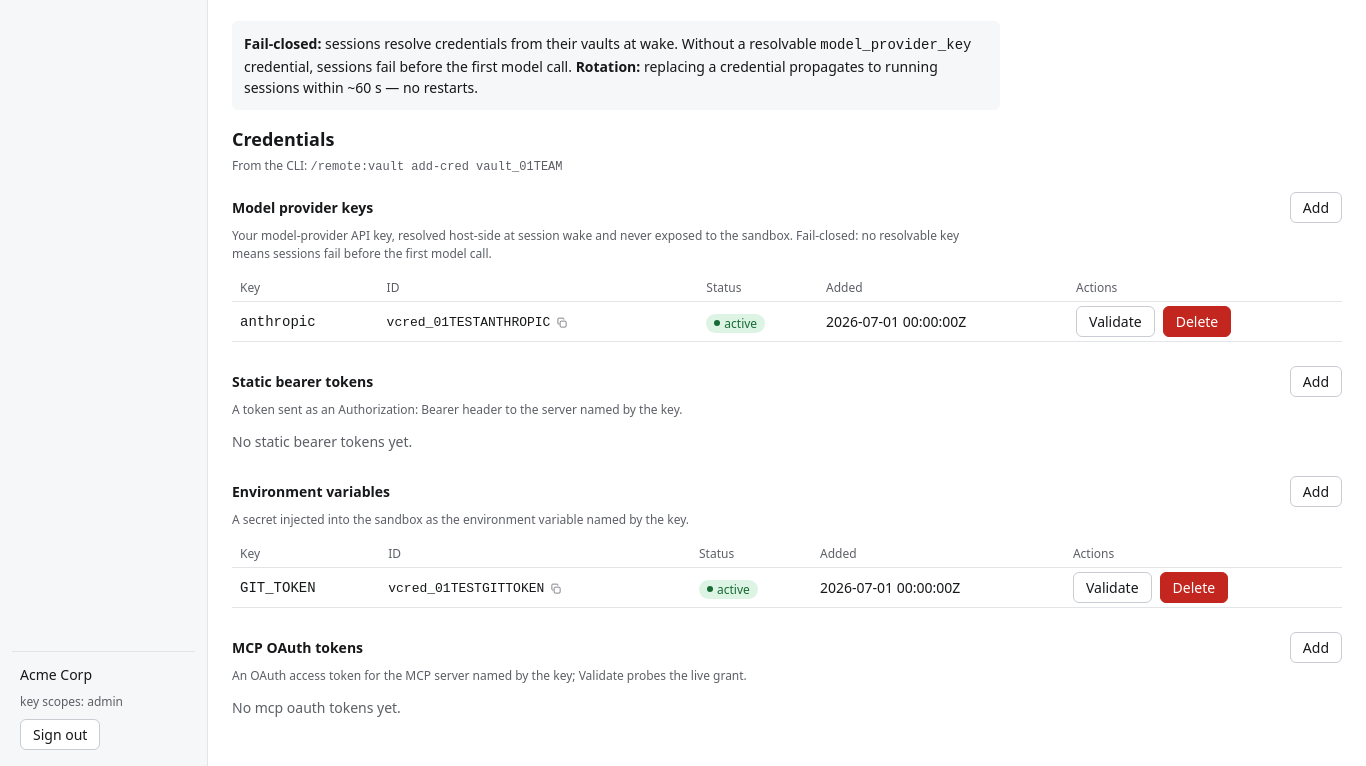
Test: vault detail (§9.3, W11) › an invalid grant prompts re-auth (DP-6)
The width and height of the screenshot is (1366, 766).
(page scrolled)
Click the button "Validate" in the row of "GIT_TOKEN".
click(1112, 588)  # box top-left (1073, 572), bottom-right (1152, 603)
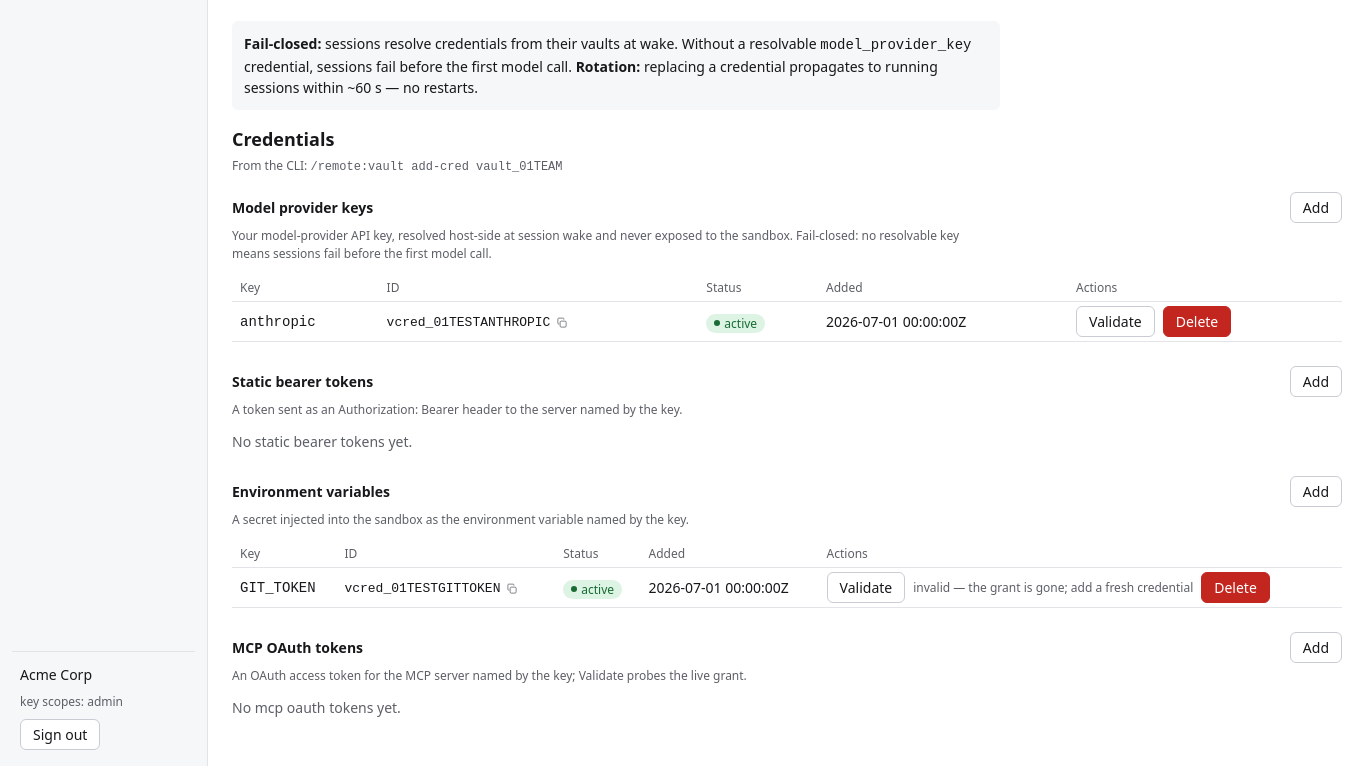
Expected: the text "invalid — the grant is gone; add a fresh credential" is shown, top-left (913, 579), bottom-right (1193, 597)
